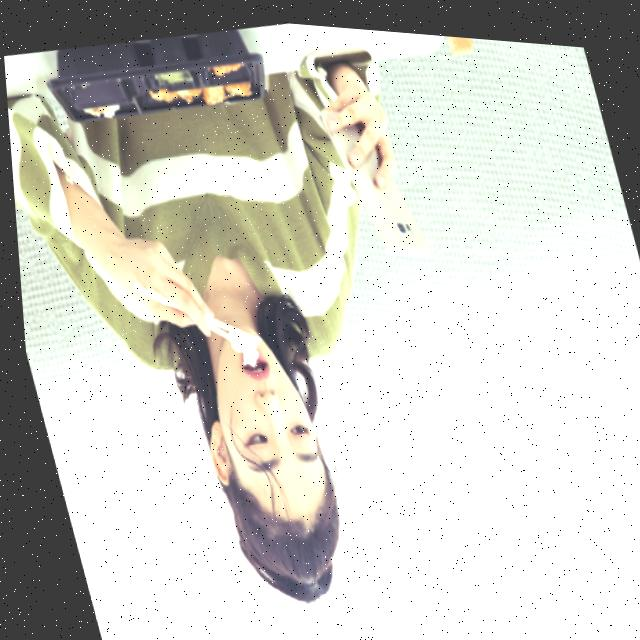eating-person: (0, 0, 528, 640)
